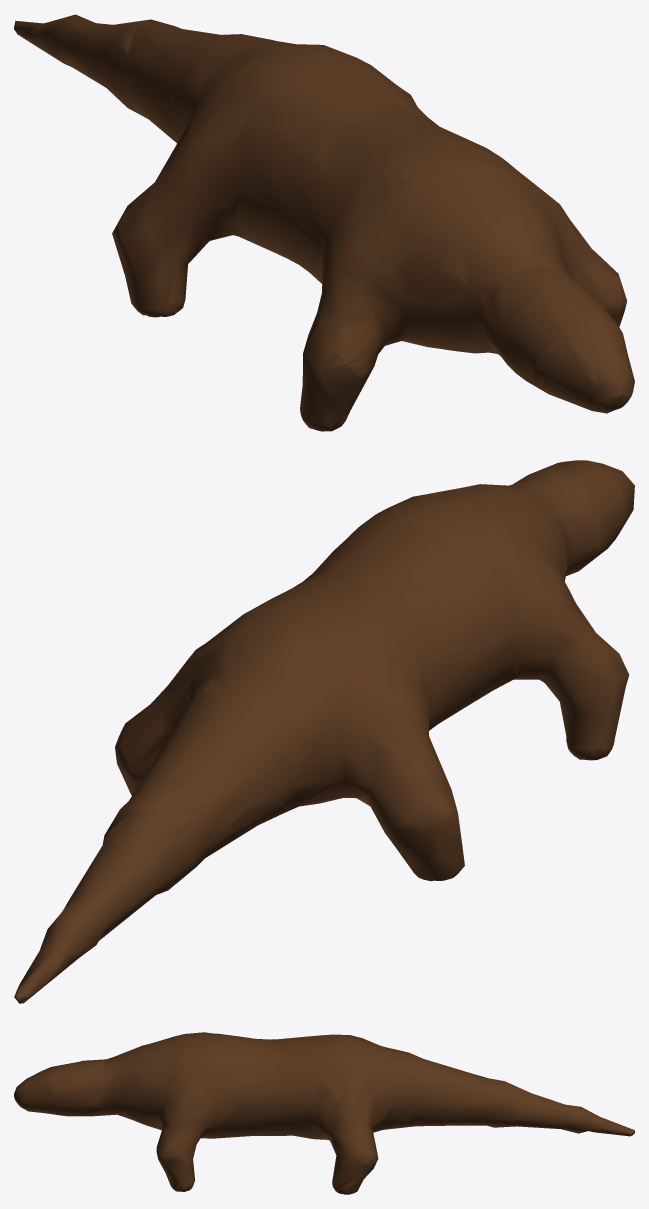
File: sdf_tetrapod.obj
3 renders of one model, top to bottom at view 1: azimuth 30°, elevation 25°; view 2: azimuth 150°, elevation 25°; view 3: azimuth 270°, elevation 25°, orthographic. The views are drawn at different scales.
Visible parts, largest first — view 1: sdf_tetrapod; view 2: sdf_tetrapod; view 3: sdf_tetrapod.
Part boxes in pixels (x1,y1,x2,y2): sdf_tetrapod: (14,14,634,431); sdf_tetrapod: (14,460,634,1003); sdf_tetrapod: (14,1032,634,1194).
Bounding box in the file's own units: 1.11 × 0.7212 × 3.47.
